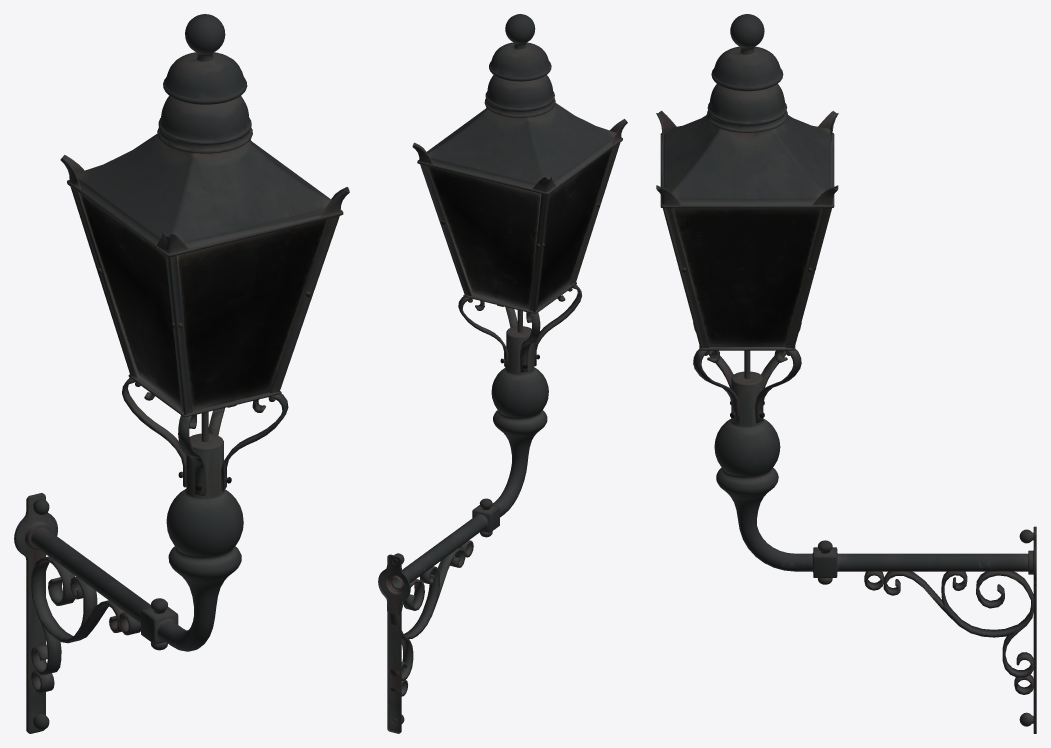
The model's file is street_lamp_02.glb.
The picture shows the model from 3 angles, left to right: view 1: azimuth 30°, elevation 25°; view 2: azimuth 150°, elevation 25°; view 3: azimuth 270°, elevation 25°; orthographic projection. The views are drawn at different scales.
Parts seen in each view (by area): view 1: street_lamp_02; view 2: street_lamp_02; view 3: street_lamp_02.
Boxes of the visible parts, x1,y1,x2,y2 form: street_lamp_02: [14, 14, 349, 733]; street_lamp_02: [378, 14, 627, 733]; street_lamp_02: [656, 14, 1036, 733].
Size of the model in its own units: 0.3865 by 1.68 by 0.8068.
Materials: 2 (2 with a texture image).
